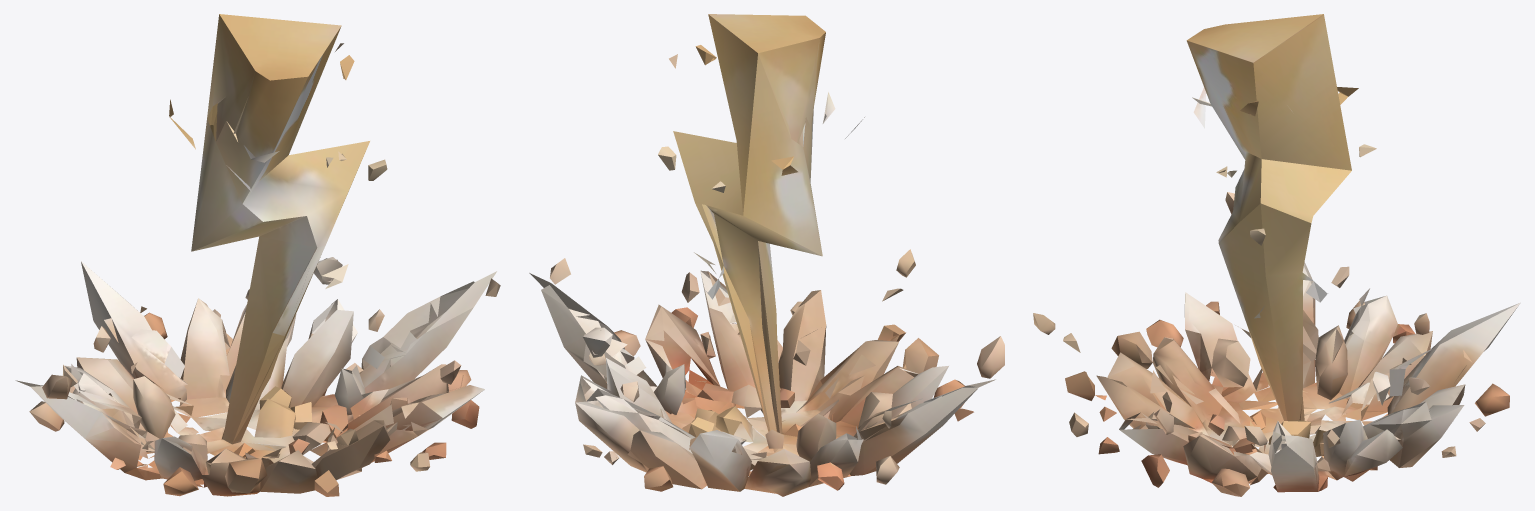
3 renders of one model, left to right at view 1: azimuth 30°, elevation 25°; view 2: azimuth 150°, elevation 25°; view 3: azimuth 270°, elevation 25°, orthographic. The views are drawn at different scales.
Parts seen in each view (by area): view 1: geometry_0; view 2: geometry_0; view 3: geometry_0.
Boxes of the visible parts, x1,y1,x2,y2 form: geometry_0: (15,14,500,496); geometry_0: (529,14,1004,496); geometry_0: (1033,14,1520,496).
Bounding box in the file's own units: 1 × 0.8489 × 0.8833.
Materials: 1 (1 with a texture image).
